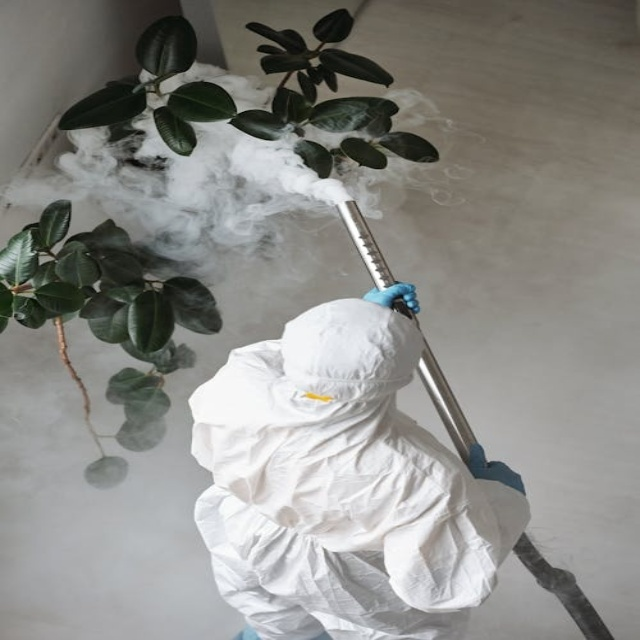Guantes: (467, 443, 524, 496), (362, 282, 420, 314)
